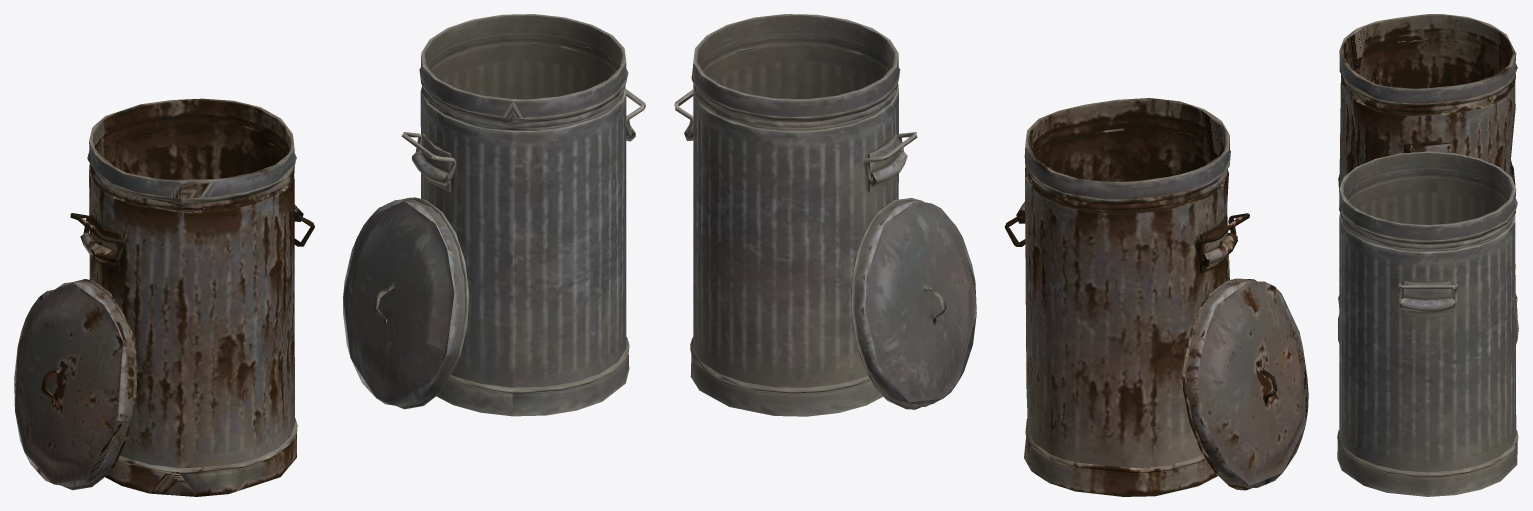
File: trash_can.glb
The picture shows the model from 3 angles, left to right: view 1: azimuth 30°, elevation 25°; view 2: azimuth 150°, elevation 25°; view 3: azimuth 270°, elevation 25°; orthographic projection. The views are drawn at different scales.
Visible parts, largest first — view 1: metal_trash_can, metal_trash_can_rust, metal_trash_can_lid, metal_trash_can_rust_lid; view 2: metal_trash_can, metal_trash_can_rust, metal_trash_can_lid, metal_trash_can_rust_lid; view 3: metal_trash_can, metal_trash_can_rust, metal_trash_can_handle_right.
Part boxes in pixels (<box>): metal_trash_can: <box>412,14,635,416</box>; metal_trash_can_rust: <box>80,98,303,496</box>; metal_trash_can_lid: <box>343,197,468,409</box>; metal_trash_can_rust_lid: <box>14,279,136,490</box>; metal_trash_can: <box>684,14,907,416</box>; metal_trash_can_rust: <box>1016,98,1237,496</box>; metal_trash_can_lid: <box>850,198,976,409</box>; metal_trash_can_rust_lid: <box>1182,278,1308,490</box>; metal_trash_can: <box>1337,151,1518,496</box>; metal_trash_can_rust: <box>1338,14,1517,317</box>; metal_trash_can_handle_right: <box>1398,283,1457,303</box>.
Bounding box in the file's own units: 1.78 × 0.9062 × 0.5533.
Materials: 2 (2 with a texture image).
